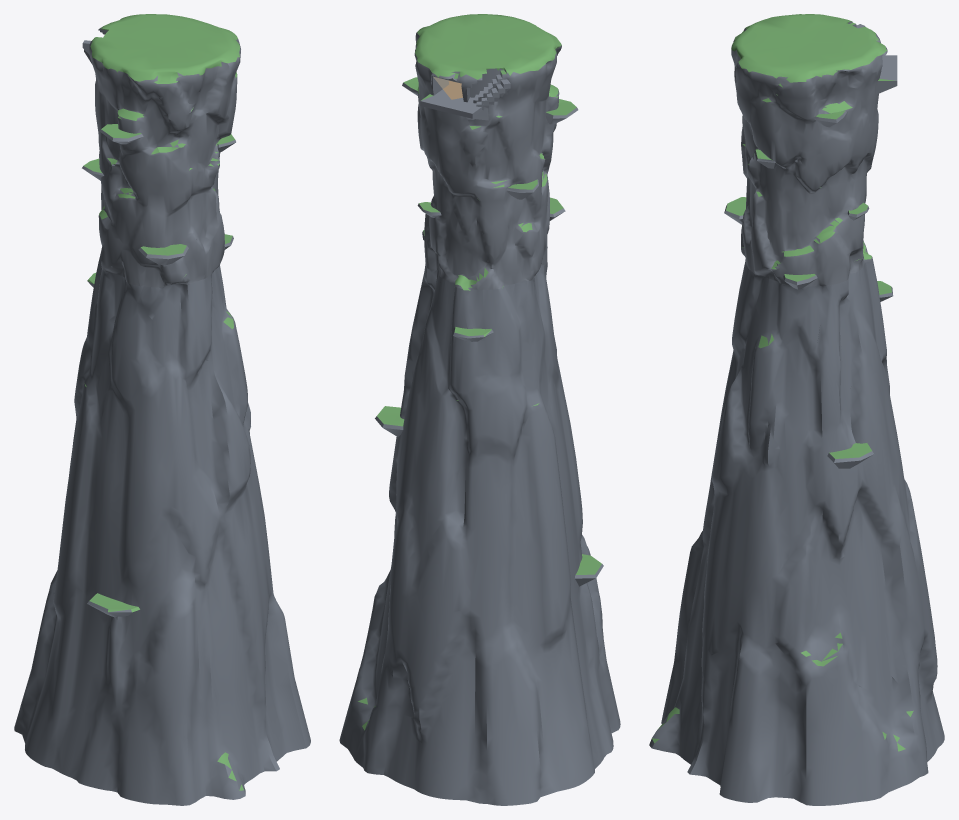
File: SpiritPeakPillar.fbx
3 views of the same model, side by side, from view 1: azimuth 30°, elevation 25°; view 2: azimuth 150°, elevation 25°; view 3: azimuth 270°, elevation 25° (orthographic).
Parts seen in each view (by area): view 1: PeakRockBase, PeakRock, PeakGrass; view 2: PeakRockBase, PeakRock, PeakGrass; view 3: PeakRockBase, PeakRock, PeakGrass.
Boxes of the visible parts, x1,y1,x2,y2 form: PeakRockBase: [14, 253, 310, 805]; PeakRock: [82, 19, 240, 287]; PeakGrass: [83, 14, 243, 790]; PeakRockBase: [339, 262, 620, 805]; PeakRock: [402, 32, 578, 289]; PeakGrass: [358, 14, 601, 730]; PeakRockBase: [649, 259, 944, 805]; PeakRock: [724, 21, 897, 288]; PeakGrass: [652, 14, 913, 751].
Bounding box in the file's own units: 201 × 562 × 214.
